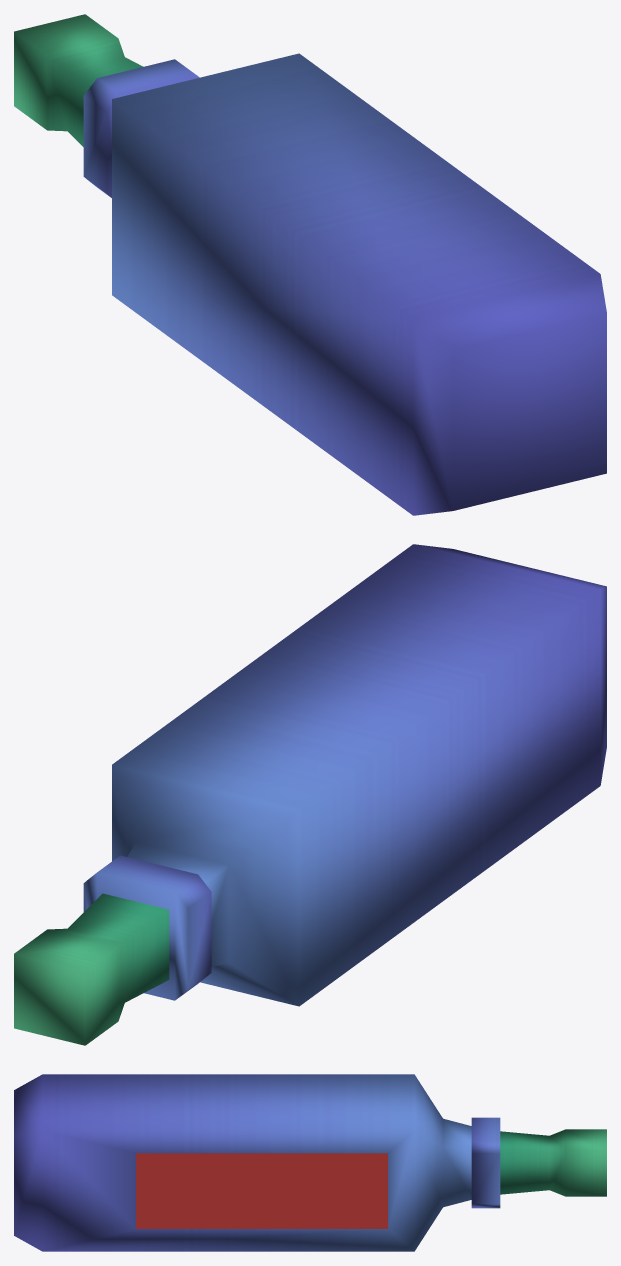
The model's file is bottle-oil.obj.
3 renders of one model, top to bottom at view 1: azimuth 30°, elevation 25°; view 2: azimuth 150°, elevation 25°; view 3: azimuth 270°, elevation 25°, orthographic. The views are drawn at different scales.
Parts seen in each view (by area): view 1: bottle-oil.006; view 2: bottle-oil.006; view 3: bottle-oil.006.
Boxes of the visible parts, left/top/right/bottom form: bottle-oil.006: left=14, top=14, right=606, bottom=515; bottle-oil.006: left=14, top=544, right=606, bottom=1045; bottle-oil.006: left=14, top=1074, right=606, bottom=1251.
Bounding box in the file's own units: 0.14 × 0.14 × 0.6218.
